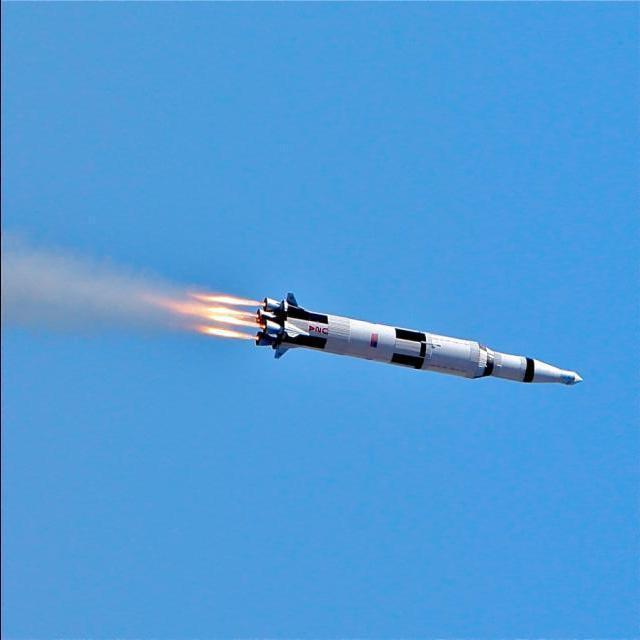missile: (240, 290, 583, 410)
